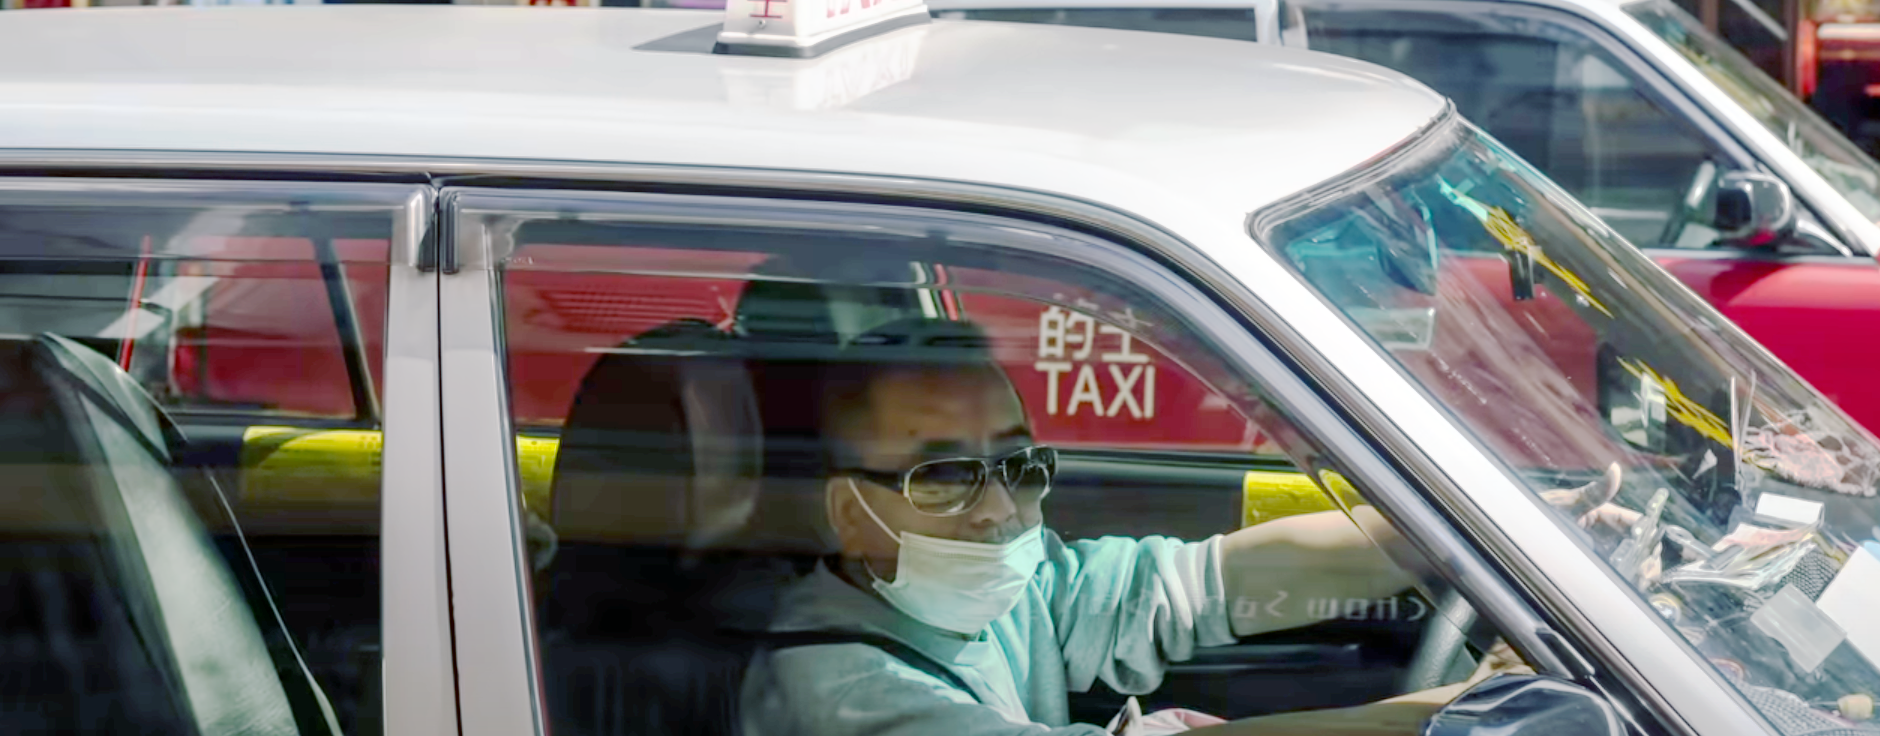mask_weared_incorrect: (798, 322, 1053, 639)
